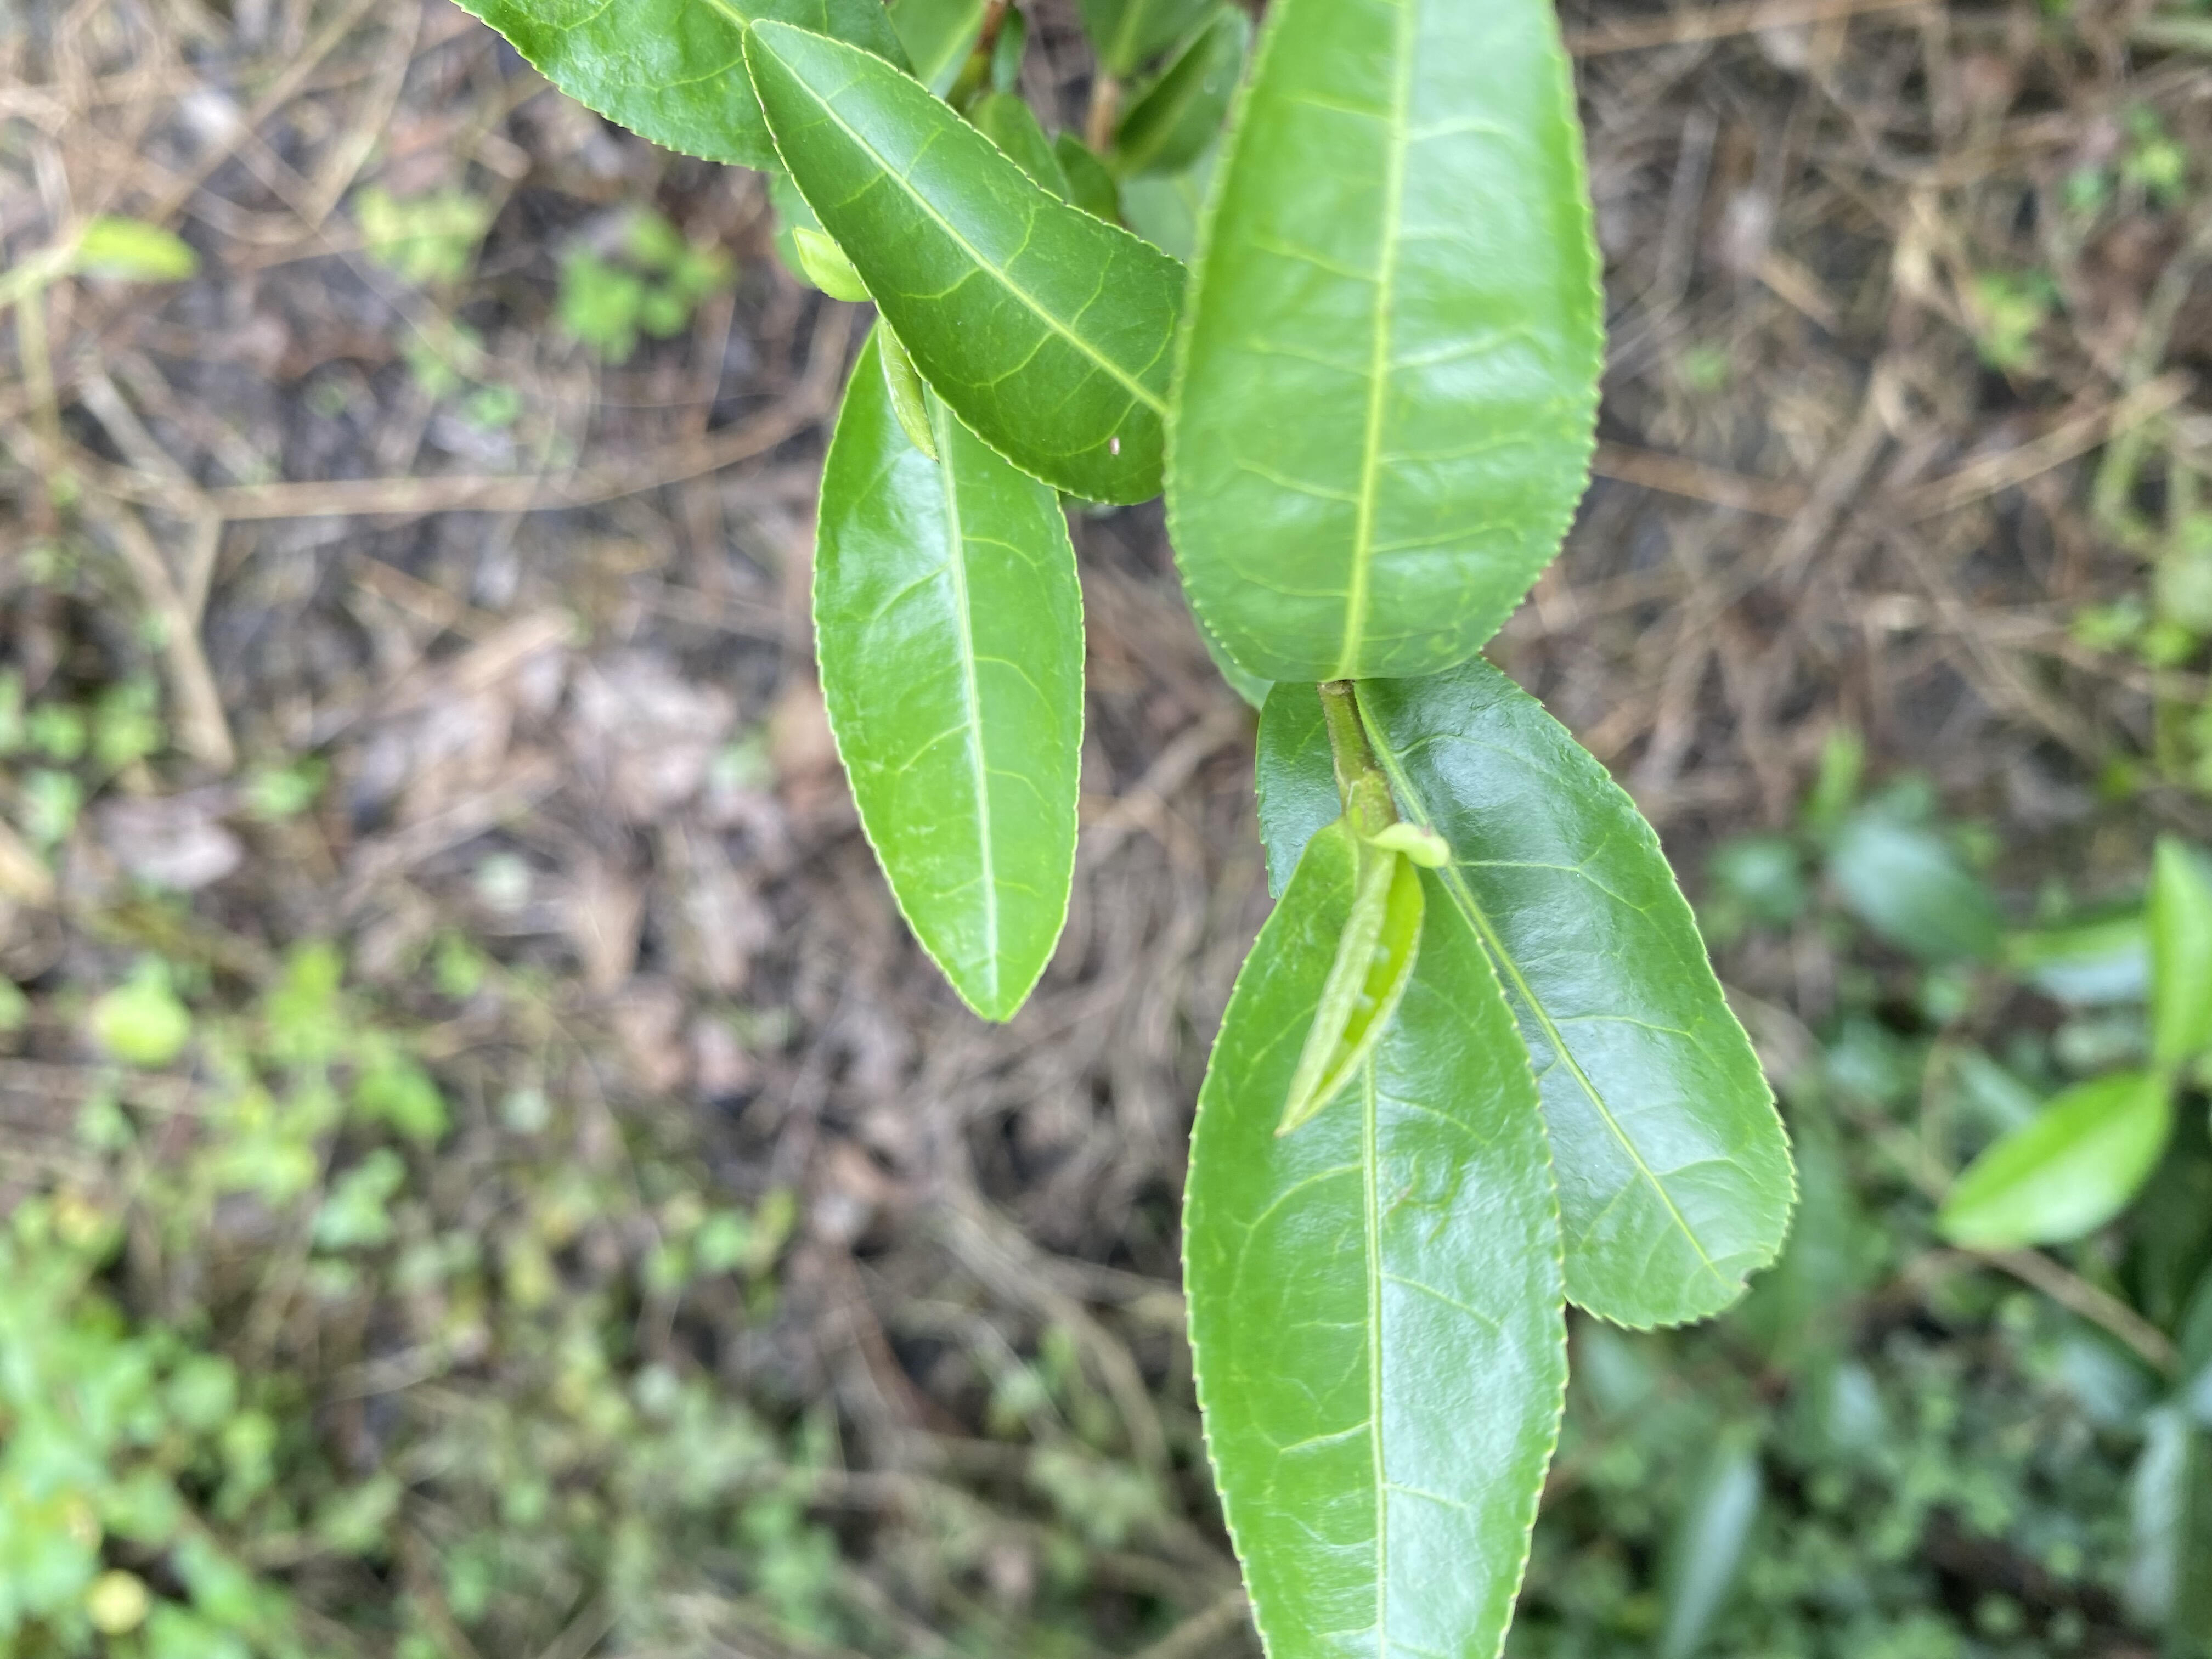healthy: (1252, 657, 1799, 1331), (1179, 817, 1569, 1656), (1162, 3, 1606, 681), (806, 315, 1085, 1021)
tanju_low: (738, 16, 1193, 509)
